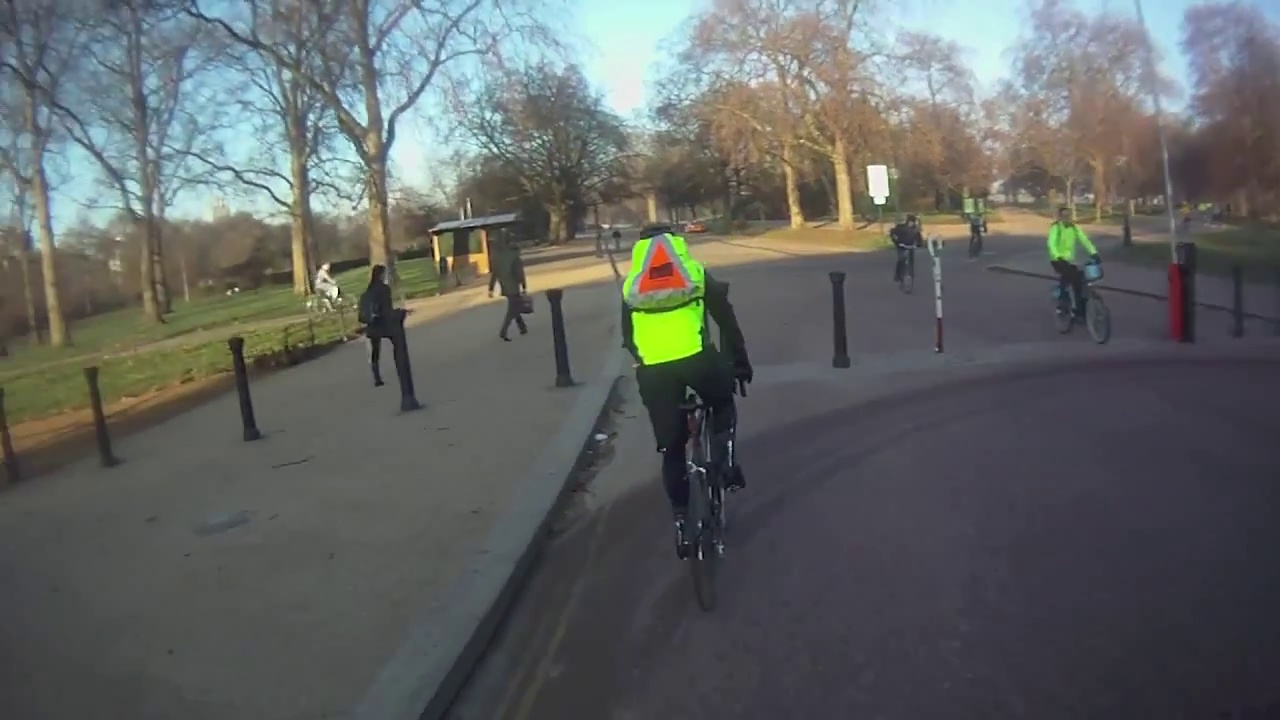cyclist_back: (622, 220, 759, 617)
cyclist_front: (1043, 201, 1121, 355), (884, 207, 927, 297)
cyclist_side: (303, 259, 360, 320)
